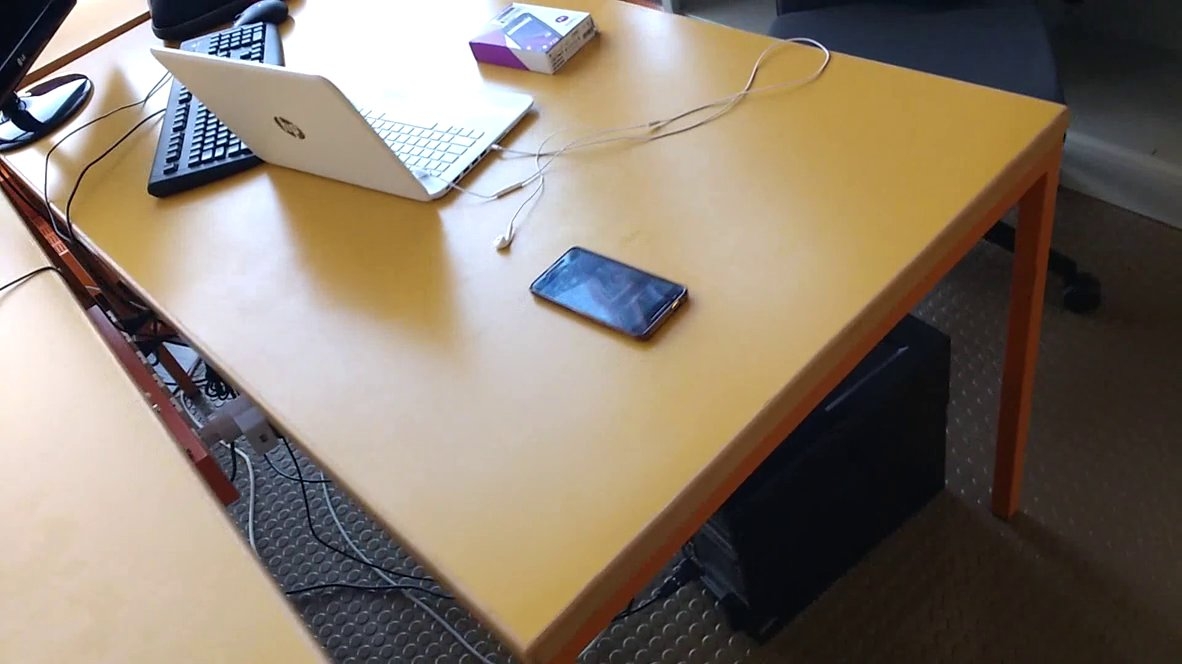laptop: (139, 35, 545, 212)
phone: (523, 239, 701, 349)
